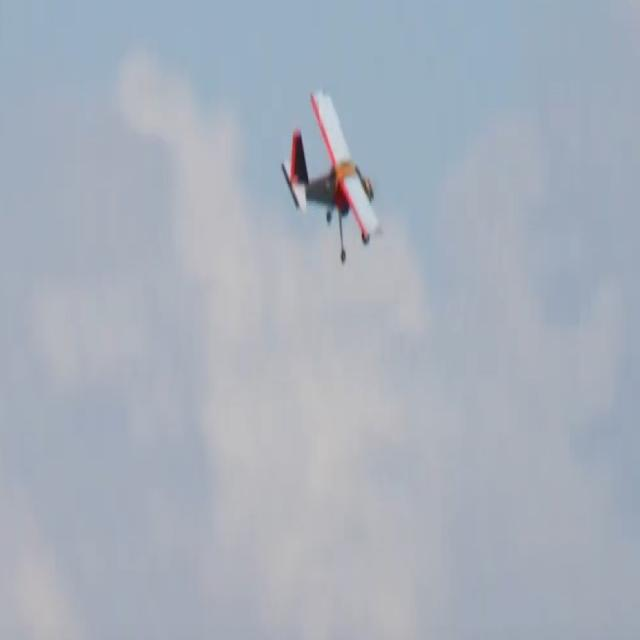iha: (306, 90, 346, 263)
